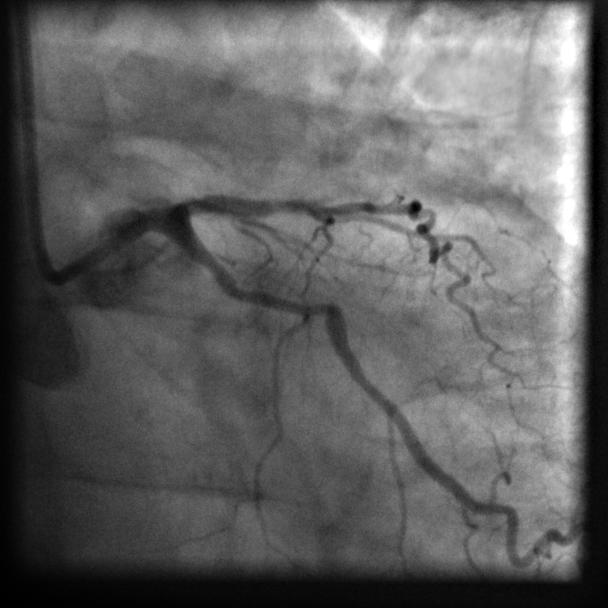Stenosis: (238, 275, 321, 329)
